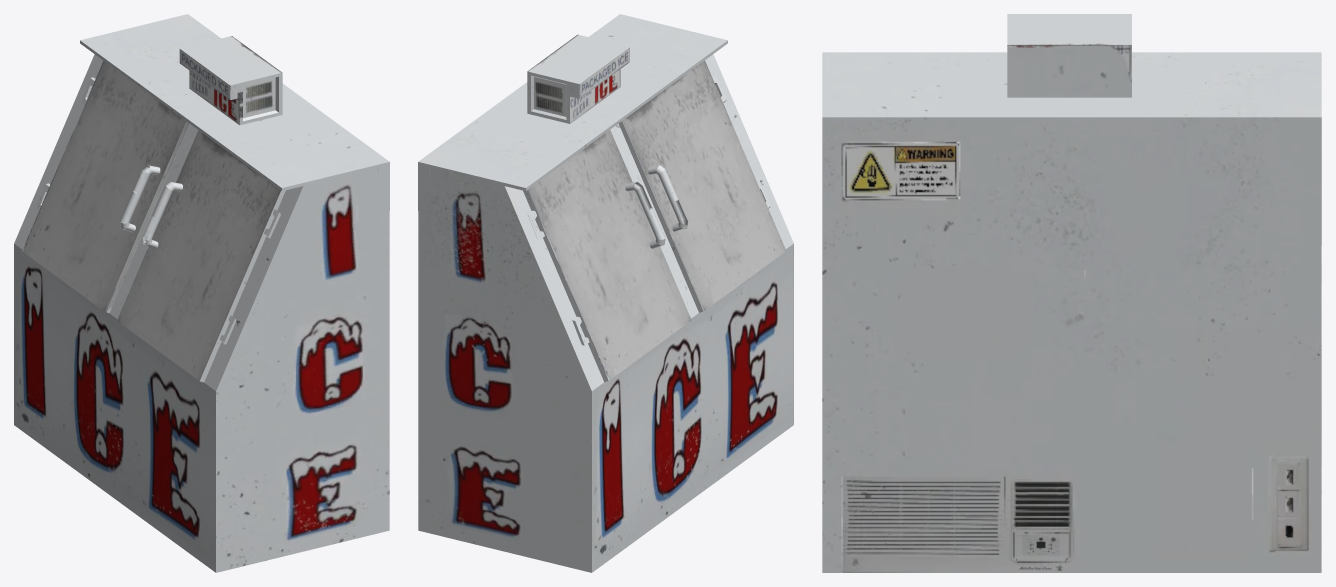
File: ice-bin.glb
The picture shows the model from 3 angles, left to right: view 1: azimuth 30°, elevation 25°; view 2: azimuth 150°, elevation 25°; view 3: azimuth 270°, elevation 25°; orthographic projection. The views are drawn at different scales.
Visible parts, largest first — view 1: Object_2; view 2: Object_2; view 3: Object_2.
Part boxes in pixels (left/top/right/bottom): Object_2: left=14, top=14, right=389, bottom=572; Object_2: left=418, top=14, right=793, bottom=572; Object_2: left=822, top=14, right=1321, bottom=572.
Bounding box in the file's own units: 2.96 × 6.52 × 5.81.
Materials: 1 (1 with a texture image).
